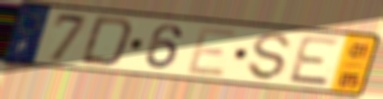6: (145, 23, 184, 71)
7: (49, 11, 89, 64)
D: (77, 14, 136, 69)
E: (286, 35, 343, 88), (184, 26, 240, 79)
S: (246, 31, 293, 83)
